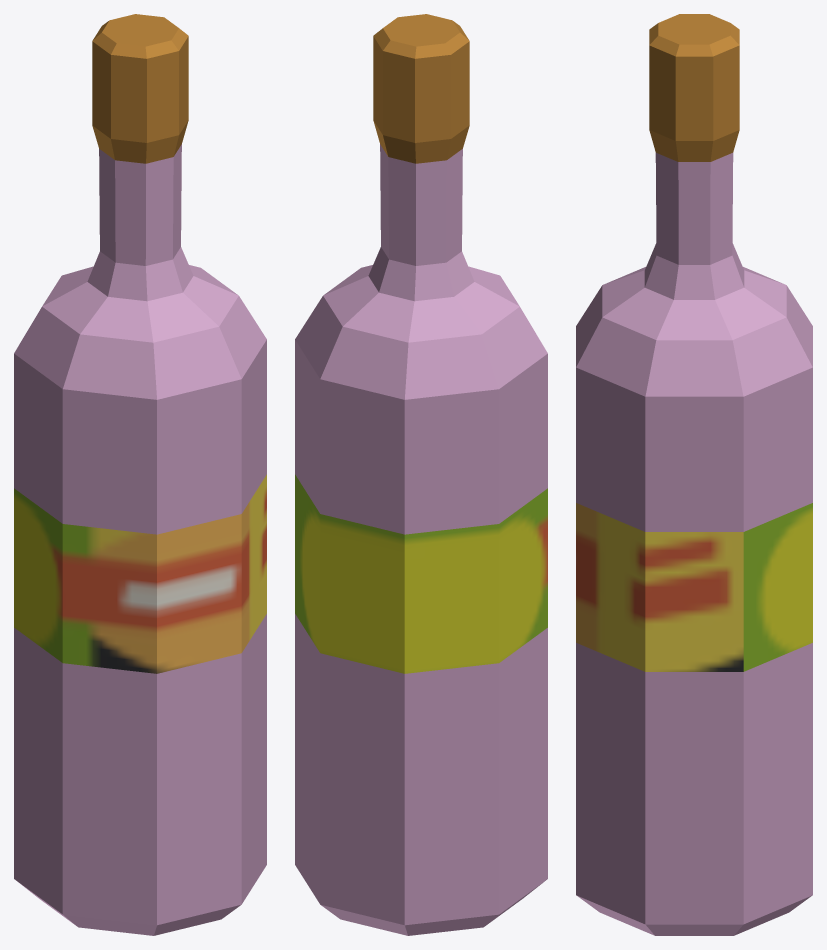
File: SM_Prop_Bar_Bottle_02_698.obj
3 renders of one model, left to right at view 1: azimuth 30°, elevation 25°; view 2: azimuth 150°, elevation 25°; view 3: azimuth 270°, elevation 25°, orthographic.
Parts seen in each view (by area): view 1: SM_Prop_Bar_Bottle_02_0; view 2: SM_Prop_Bar_Bottle_02_0; view 3: SM_Prop_Bar_Bottle_02_0.
Boxes of the visible parts, x1=… form: SM_Prop_Bar_Bottle_02_0: x1=14, y1=14, x2=266, y2=935; SM_Prop_Bar_Bottle_02_0: x1=295, y1=14, x2=547, y2=935; SM_Prop_Bar_Bottle_02_0: x1=576, y1=14, x2=812, y2=935.
Size of the model in its own units: 0.1139 by 0.46 by 0.1139.
Materials: 1 (1 with a texture image).
